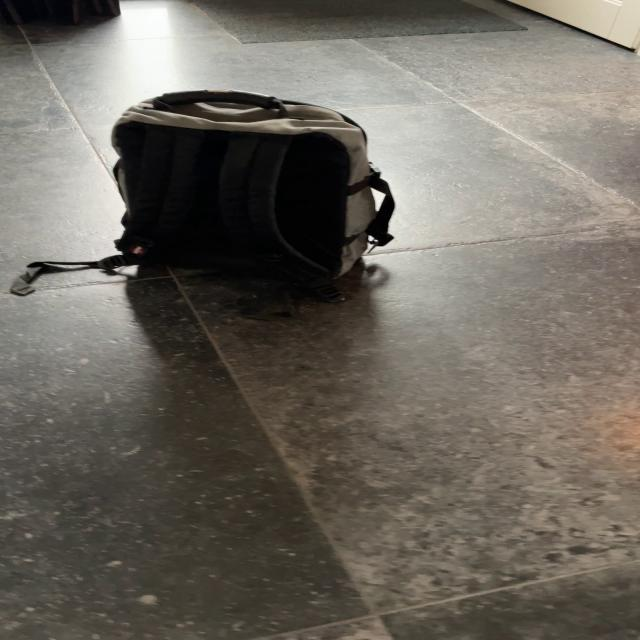backpack: (96, 82, 403, 304)
